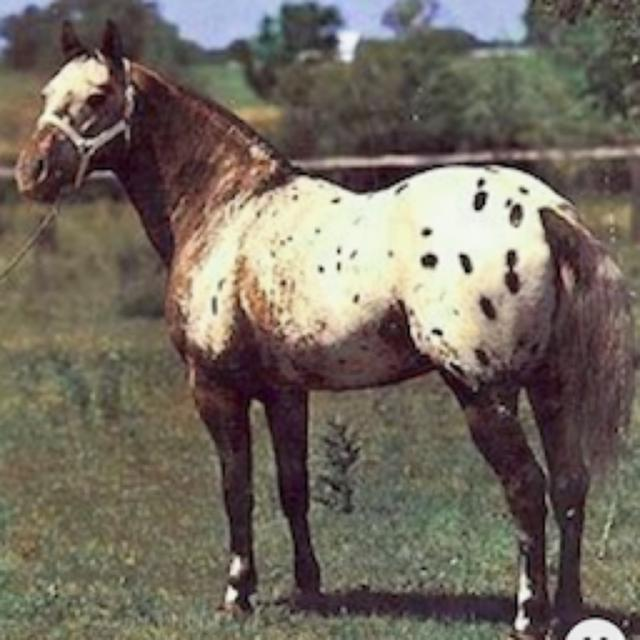Horse: (8, 12, 638, 638)
